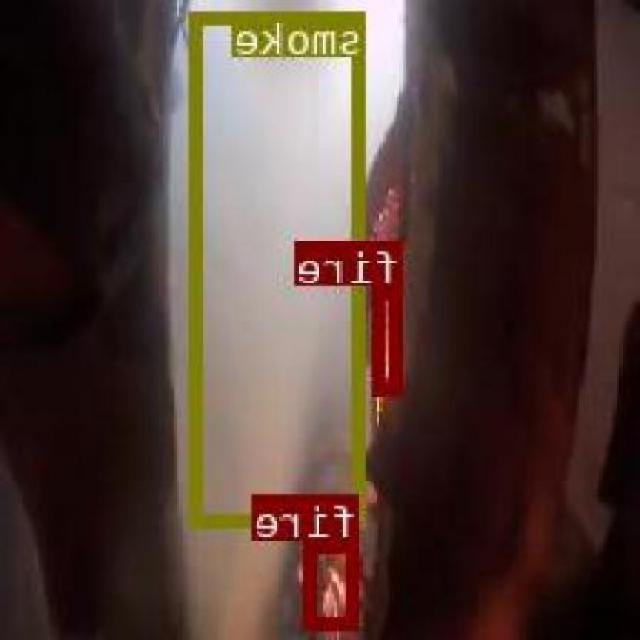Fire: (306, 538, 362, 626)
Smoke: (192, 9, 368, 525)
